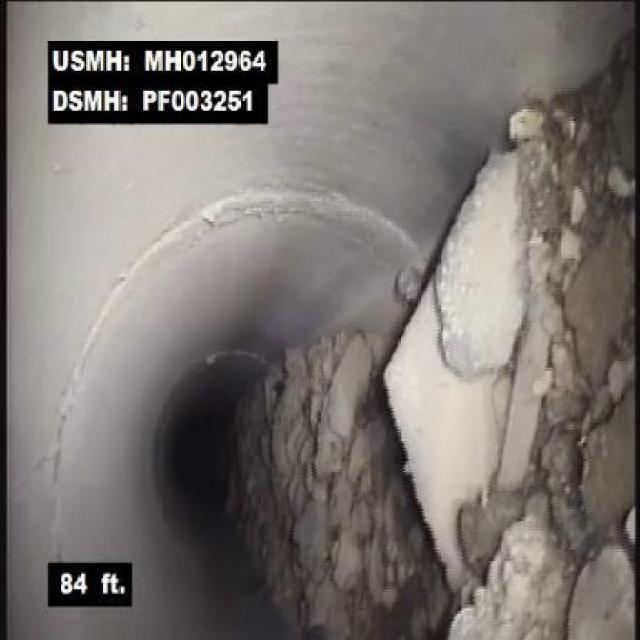Obstacle: (377, 97, 638, 638)
